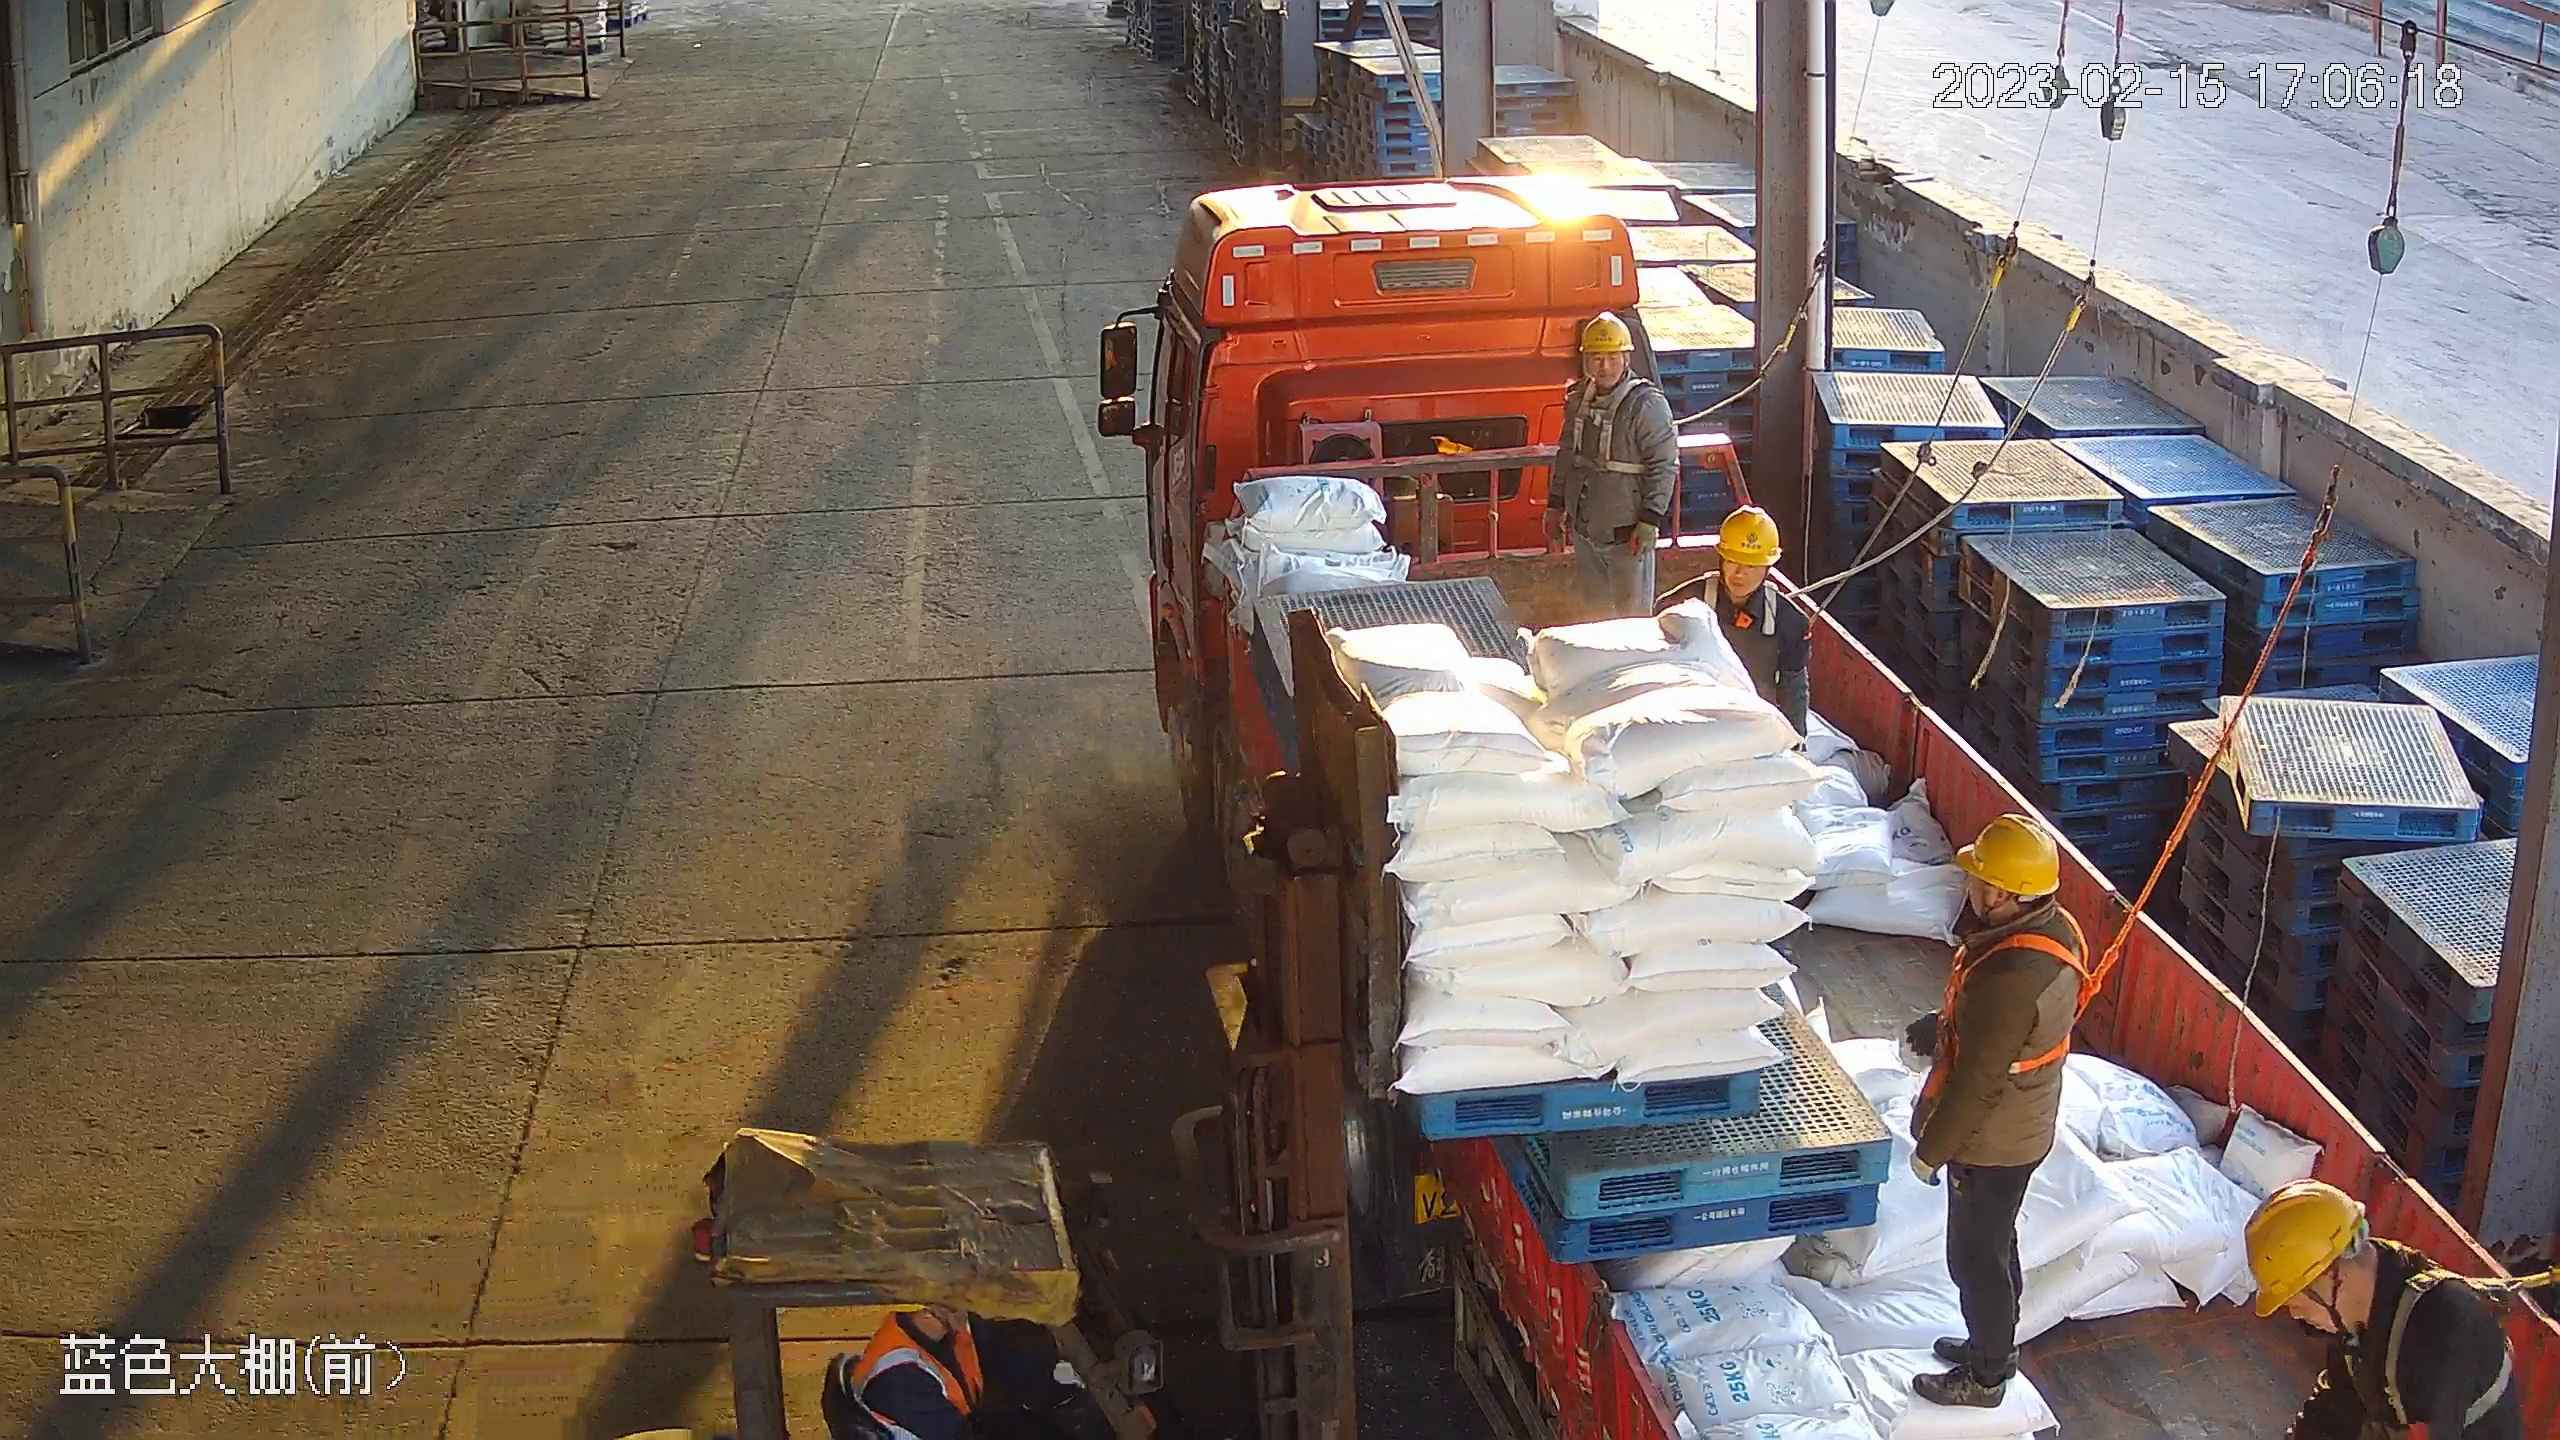belt: (2340, 1267, 2556, 1427), (1937, 928, 2125, 1083), (1566, 381, 1644, 478), (1708, 572, 1790, 637)
head: (2245, 1174, 2527, 1439), (1908, 815, 2089, 1015), (1664, 505, 1810, 667), (1547, 310, 1667, 438)
helmet: (2245, 1178, 2369, 1320), (1952, 818, 2061, 896), (1715, 506, 1779, 571), (1579, 310, 1630, 351)
people: (1905, 803, 2088, 1406), (1545, 308, 1678, 620)
truck: (1095, 178, 2560, 1440)
